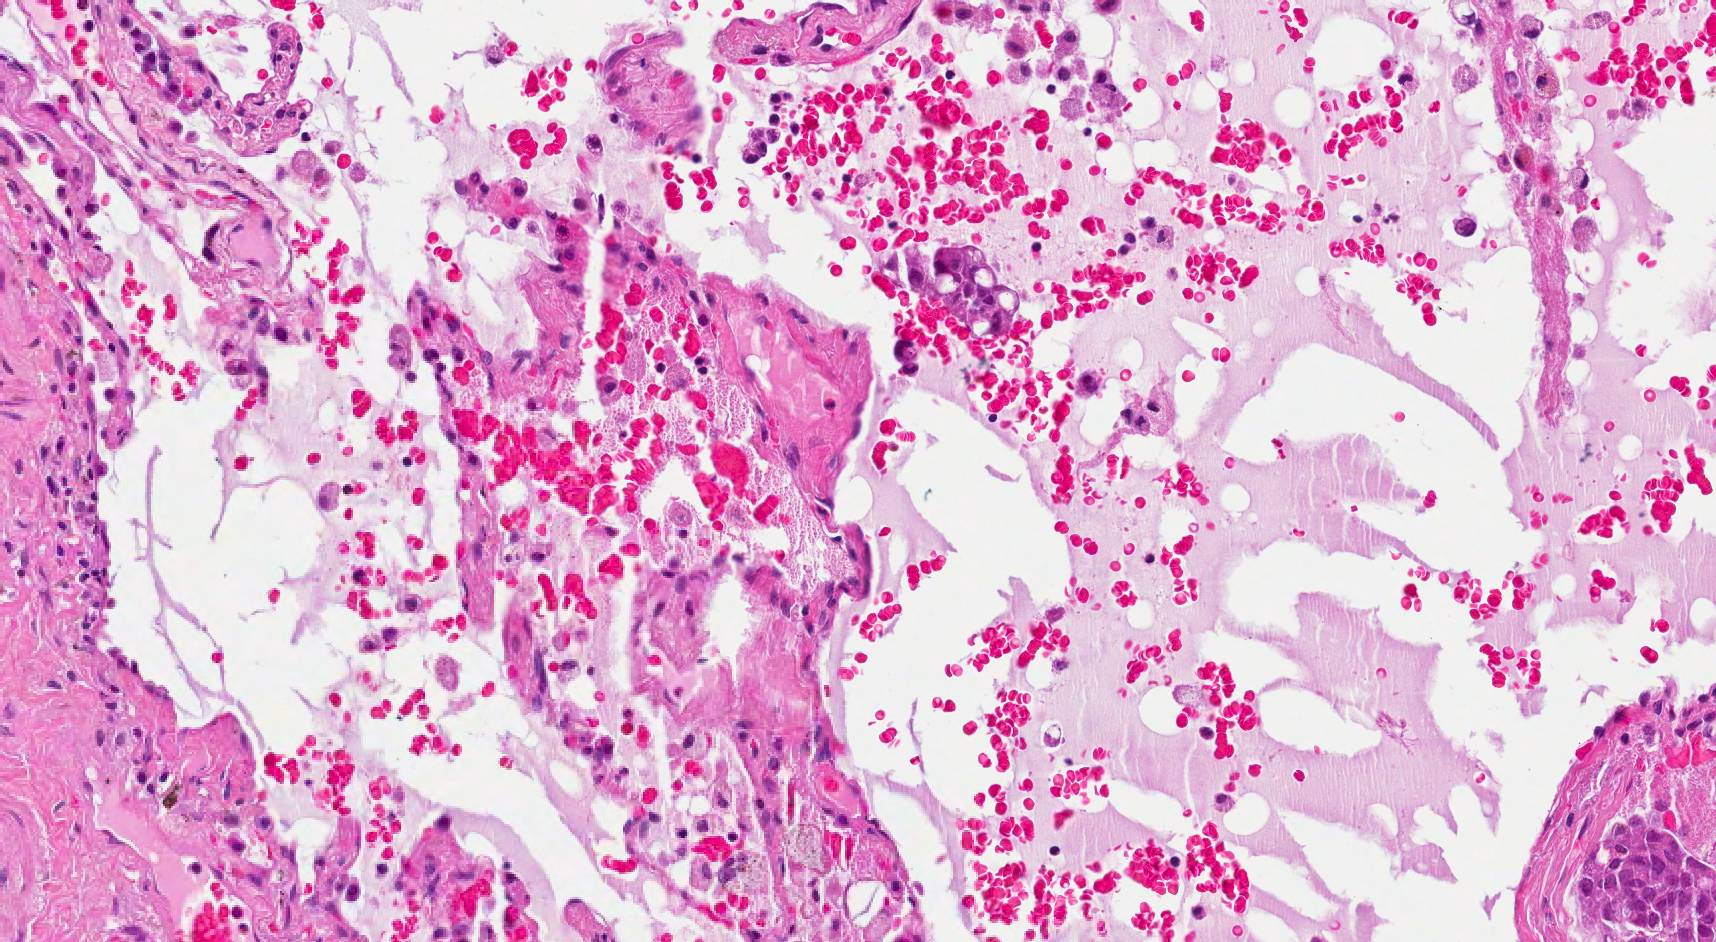stas: (898, 221, 1034, 344)
